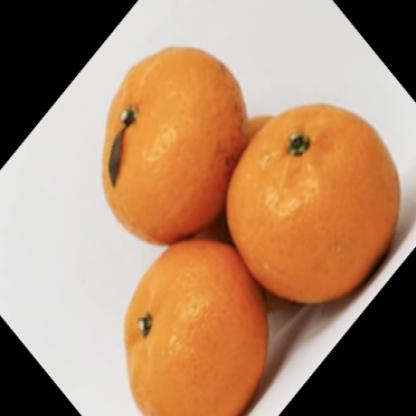fresh: (102, 46, 400, 416)
